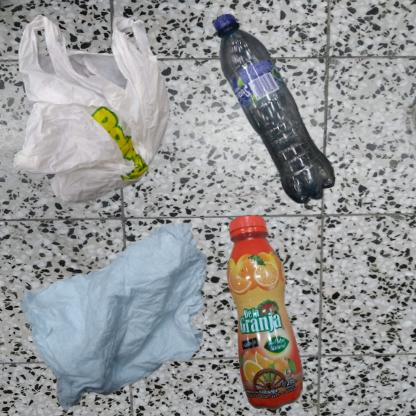bolsa: (10, 10, 176, 213)
botella: (213, 10, 336, 209), (213, 213, 322, 416)
papel: (10, 213, 269, 416)
